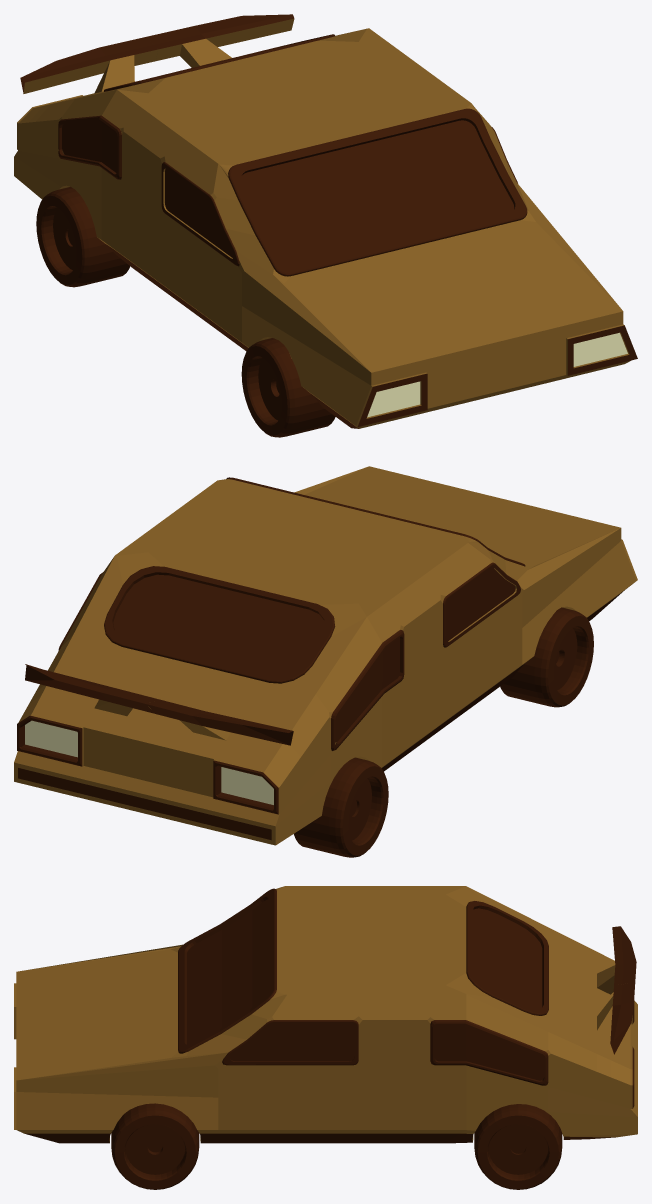
File: Car 4.fbx
3 views of the same model, one above another, from view 1: azimuth 30°, elevation 25°; view 2: azimuth 150°, elevation 25°; view 3: azimuth 270°, elevation 25° (orthographic). The views are drawn at different scales.
Parts seen in each view (by area): view 1: Cylinder.001; view 2: Cylinder.001; view 3: Cylinder.001.
Boxes of the visible parts, x1,y1,x2,y2 form: Cylinder.001: (14,14,637,437); Cylinder.001: (14,466,637,857); Cylinder.001: (14,886,637,1189).
Bounding box in the file's own units: 2.19 × 1.45 × 4.36.
